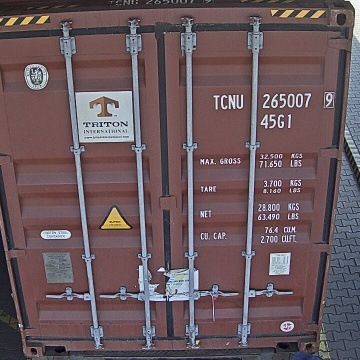serial_id: (213, 92, 334, 110)
